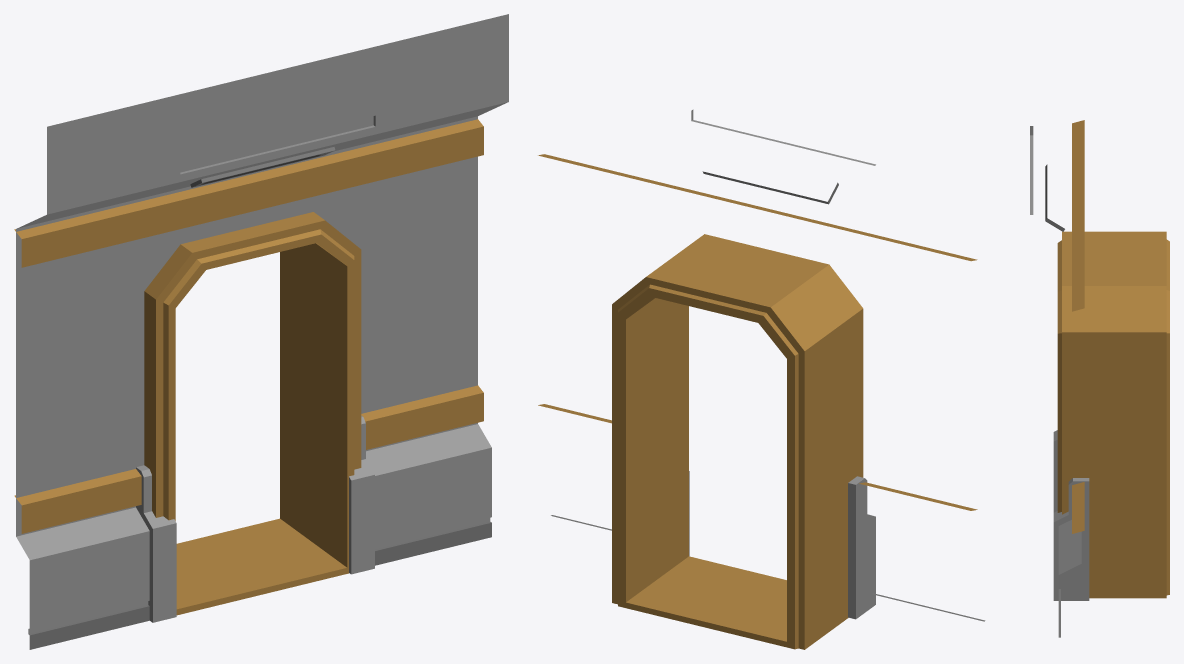
File: quaternius-modular-sci-fi-door-single-wall-side-a.glb
The picture shows the model from 3 angles, left to right: view 1: azimuth 30°, elevation 25°; view 2: azimuth 150°, elevation 25°; view 3: azimuth 270°, elevation 25°; orthographic projection. The views are drawn at different scales.
Visible parts, largest first — view 1: DoorSingle_Wall_SideA; view 2: DoorSingle_Wall_SideA; view 3: DoorSingle_Wall_SideA.
Part boxes in pixels (x1,y1,x2,y2): DoorSingle_Wall_SideA: (14, 14, 508, 649); DoorSingle_Wall_SideA: (538, 109, 985, 649); DoorSingle_Wall_SideA: (1030, 120, 1169, 637).
Bounding box in the file's own units: 4 × 4.44 × 1.25.
